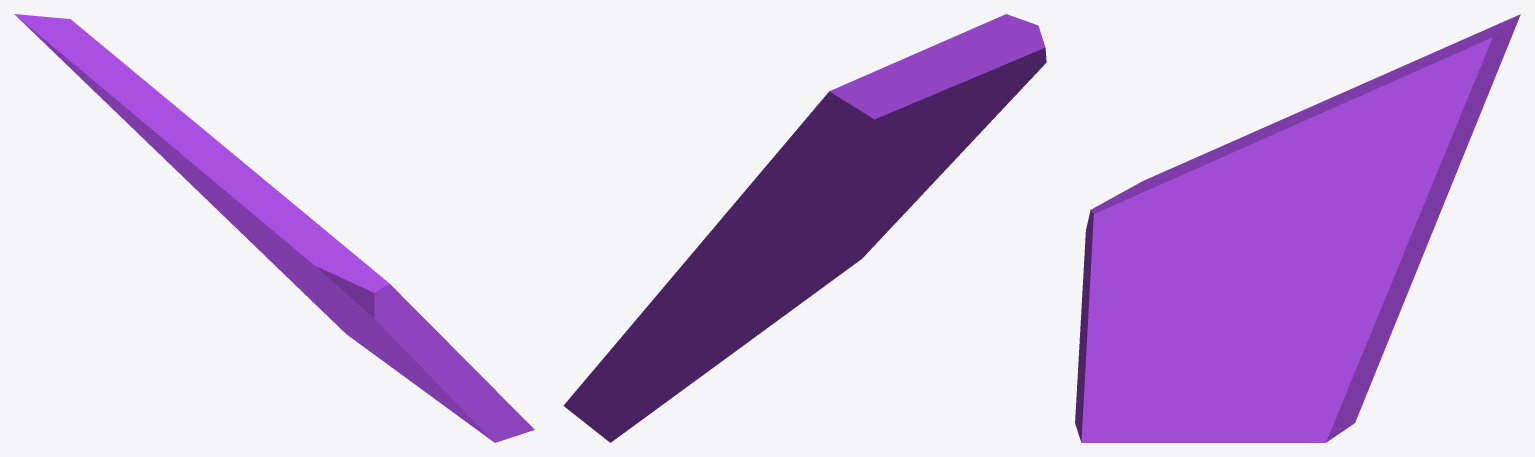
The model's file is Window_118_1_chunks.fbx.
3 views of the same model, side by side, from view 1: azimuth 30°, elevation 25°; view 2: azimuth 150°, elevation 25°; view 3: azimuth 270°, elevation 25° (orthographic). The views are drawn at different scales.
Visible parts, largest first — view 1: Window_118_1_0, Window_118_1_5, Window_118_1_1, Window_118_1_2, Window_118_1_3, Window_118_1_7, Window_118_1_6; view 2: Window_118_1_5, Window_118_1_3, Window_118_1_7, Window_118_1_0, Window_118_1_1, Window_118_1_2, Window_118_1_6, Window_118_1_10, Window_118_1_11, Window_118_1_12; view 3: Window_118_1_5, Window_118_1_0, Window_118_1_1, Window_118_1_8, Window_118_1_4, Window_118_1_10, Window_118_1_6, Window_118_1_11, Window_118_1_9, Window_118_1_7, Window_118_1_3, Window_118_1_2.
Part boxes in pixels (box(x1,y1,x2,y2)): Window_118_1_0: box(306, 257, 534, 442); Window_118_1_5: box(14, 14, 213, 193); Window_118_1_1: box(181, 111, 357, 270); Window_118_1_2: box(146, 120, 313, 277); Window_118_1_3: box(199, 192, 324, 292); Window_118_1_7: box(282, 272, 375, 355); Window_118_1_6: box(315, 288, 432, 391); Window_118_1_5: box(693, 64, 948, 298); Window_118_1_3: box(657, 186, 878, 379); Window_118_1_7: box(582, 262, 804, 442); Window_118_1_0: box(810, 14, 1046, 296); Window_118_1_1: box(891, 22, 1040, 154); Window_118_1_2: box(858, 66, 977, 187); Window_118_1_6: box(769, 210, 866, 306); Window_118_1_10: box(705, 279, 821, 373); Window_118_1_11: box(563, 342, 730, 420); Window_118_1_12: box(725, 282, 815, 353); Window_118_1_5: box(1333, 14, 1520, 245); Window_118_1_0: box(1075, 177, 1206, 442); Window_118_1_1: box(1134, 98, 1354, 264); Window_118_1_8: box(1244, 253, 1385, 362); Window_118_1_4: box(1262, 172, 1379, 287); Window_118_1_10: box(1084, 387, 1254, 442); Window_118_1_6: box(1131, 256, 1245, 374); Window_118_1_11: box(1241, 349, 1338, 442); Window_118_1_9: box(1122, 344, 1261, 408); Window_118_1_7: box(1297, 311, 1387, 434); Window_118_1_3: box(1352, 230, 1428, 342); Window_118_1_2: box(1293, 87, 1354, 180).
Bounding box in the file's own units: 670 × 702 × 955.
